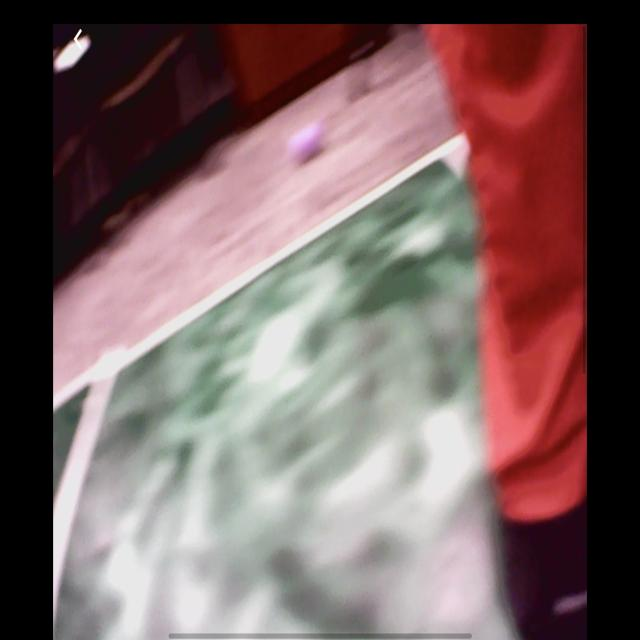ball: (294, 124, 323, 167)
